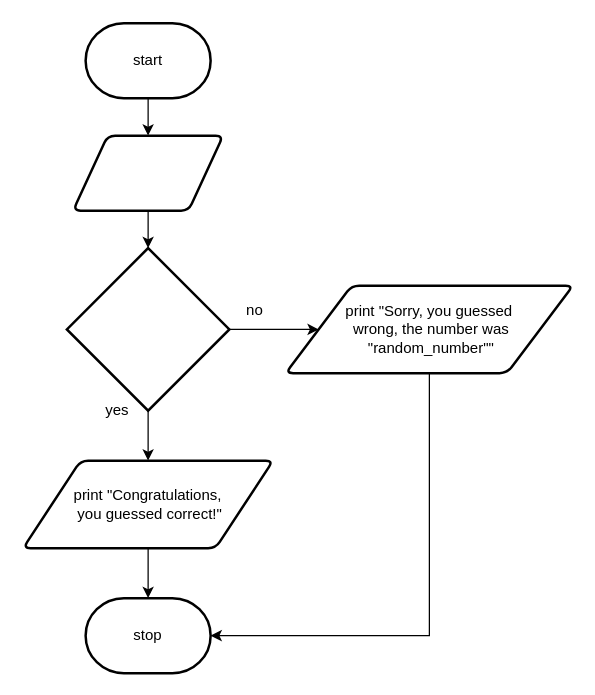
This 595x695 diagram has some shape labels left out. Here are the shapes that lost their labels. From the top down, the box of each, then its label:
(71, 134, 224, 211): get user guess
(65, 246, 230, 411): if guess == random_number
